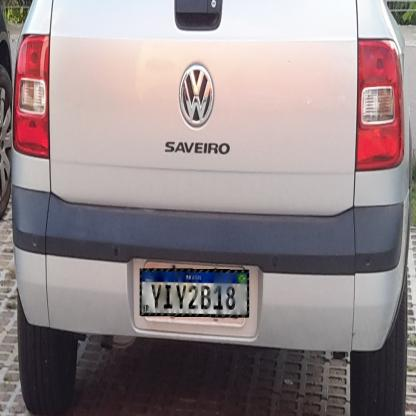PlacaM: (140, 269, 249, 318)
